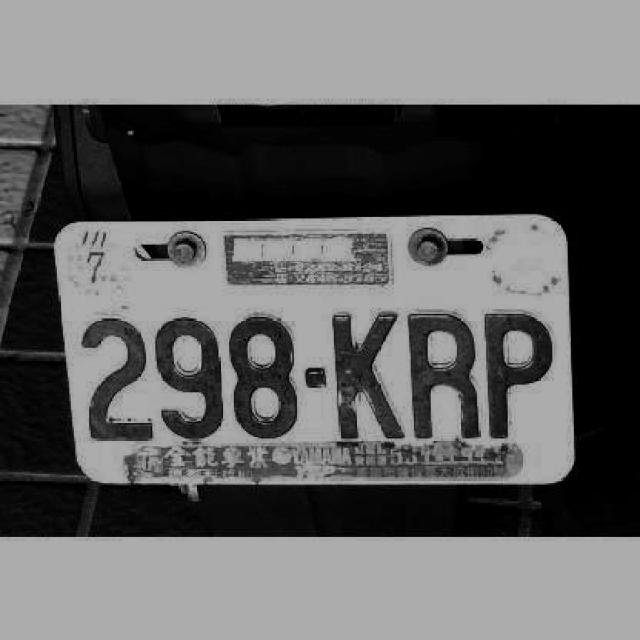-: (302, 365, 326, 389)
2: (81, 314, 156, 441)
8: (228, 312, 302, 437), (228, 311, 300, 438)
9: (152, 316, 228, 438)
B: (404, 311, 482, 440)
K: (328, 309, 403, 442)
P: (486, 305, 552, 443)
